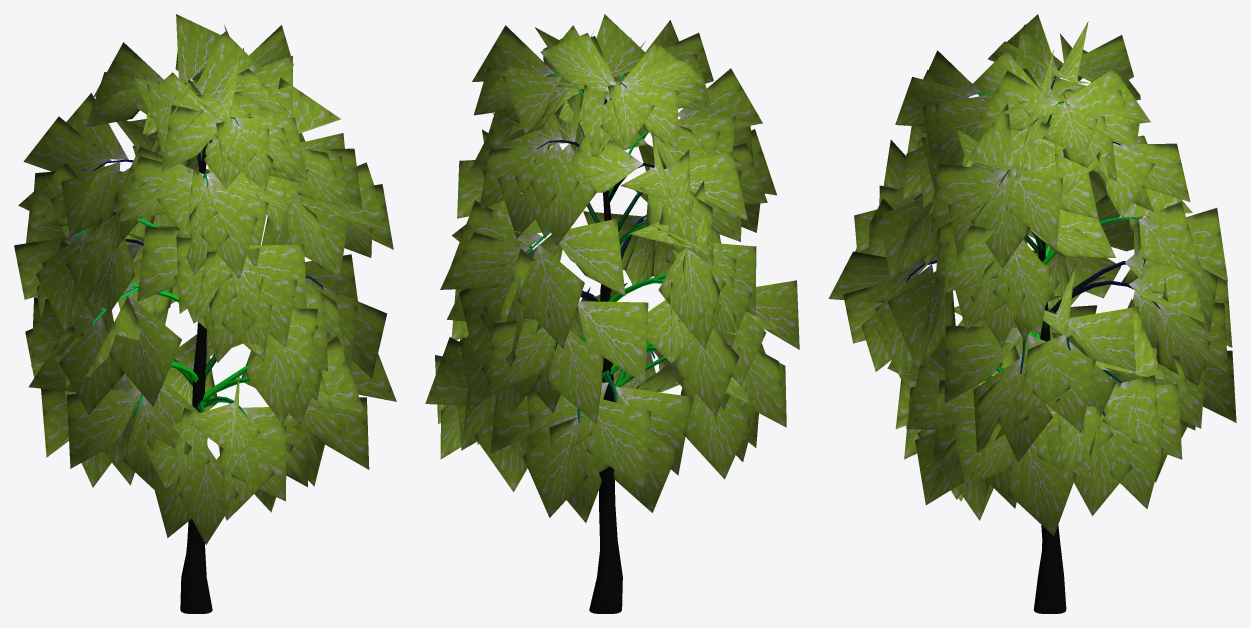
The model's file is BirchTree04.fbx.
3 renders of one model, left to right at view 1: azimuth 30°, elevation 25°; view 2: azimuth 150°, elevation 25°; view 3: azimuth 270°, elevation 25°, orthographic.
Parts seen in each view (by area): view 1: Tree_1, Tree_0; view 2: Tree_1, Tree_0; view 3: Tree_1, Tree_0.
Part boxes in pixels (left/top/right/bottom): Tree_1: left=14, top=14, right=396, bottom=544; Tree_0: left=74, top=82, right=323, bottom=613; Tree_1: left=425, top=14, right=799, bottom=522; Tree_0: left=526, top=71, right=747, bottom=613; Tree_1: left=828, top=14, right=1236, bottom=535; Tree_0: left=905, top=66, right=1160, bottom=613.
Size of the model in its own units: 74.85 by 133 by 83.53.
